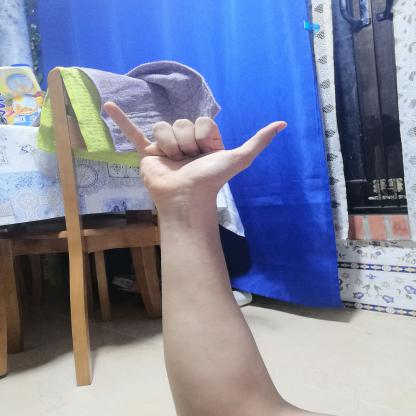YA: (87, 89, 296, 206)
